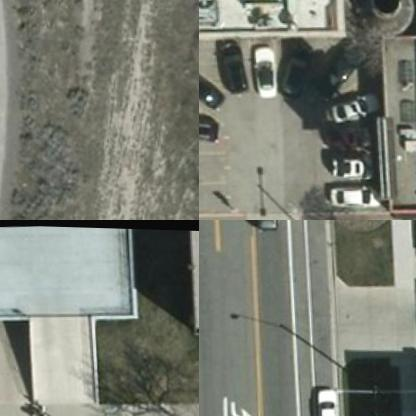car: (321, 90, 377, 124), (217, 39, 248, 93), (246, 40, 277, 94), (278, 47, 309, 93), (199, 55, 226, 107), (321, 148, 369, 174), (326, 178, 374, 204), (314, 383, 342, 415), (199, 107, 217, 143)
